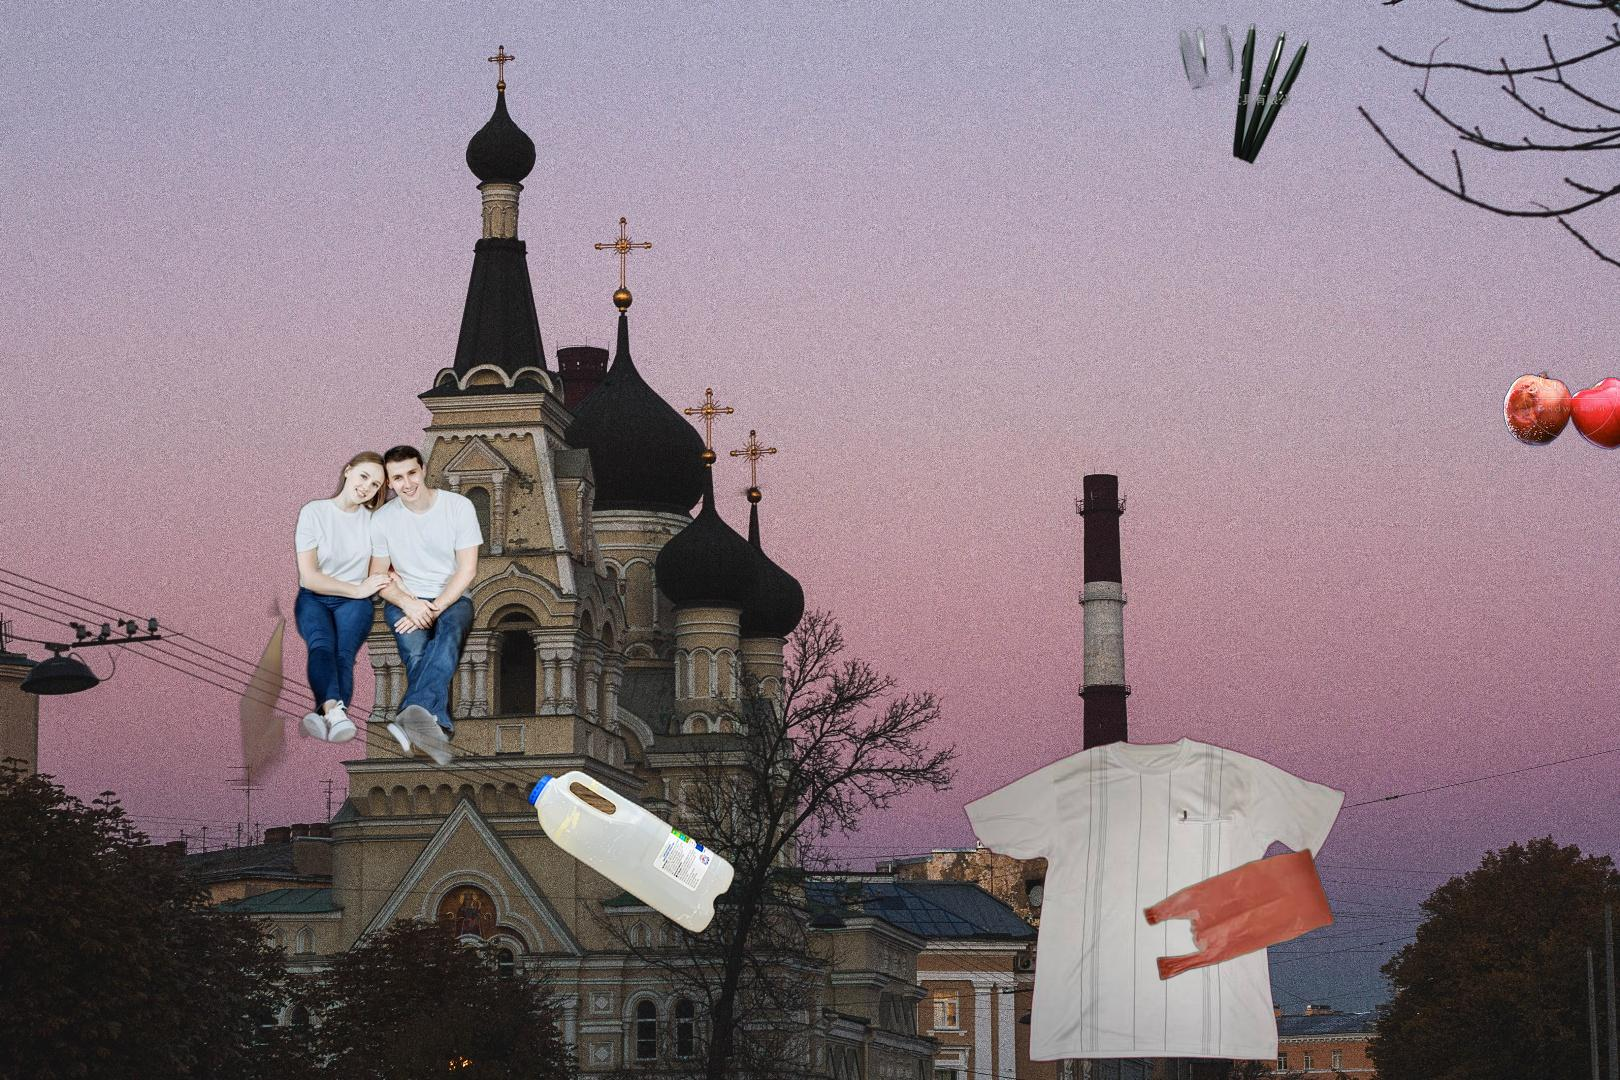biological: (1499, 366, 1620, 452)
clothes: (959, 730, 1350, 1067)
penholder: (1170, 23, 1311, 171)
plastic-bag: (1140, 847, 1338, 981)
plastic-bottles: (524, 734, 739, 939)
trashbox-cardboard: (206, 442, 491, 786)
